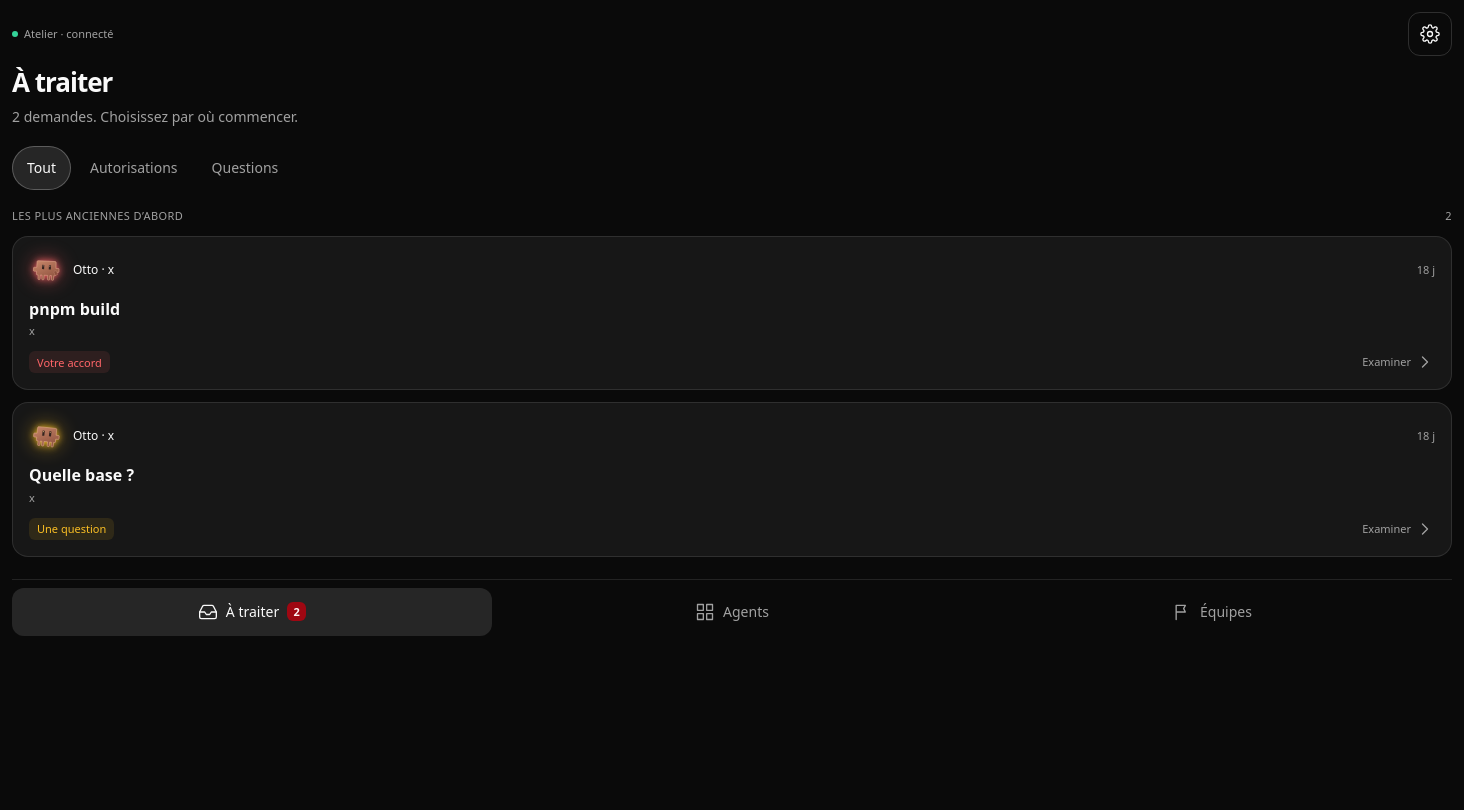
Scenario: the inbox › filters by kind
Click the button "Questions" at point(245, 168), box x1=197 y1=146 x2=293 y2=190
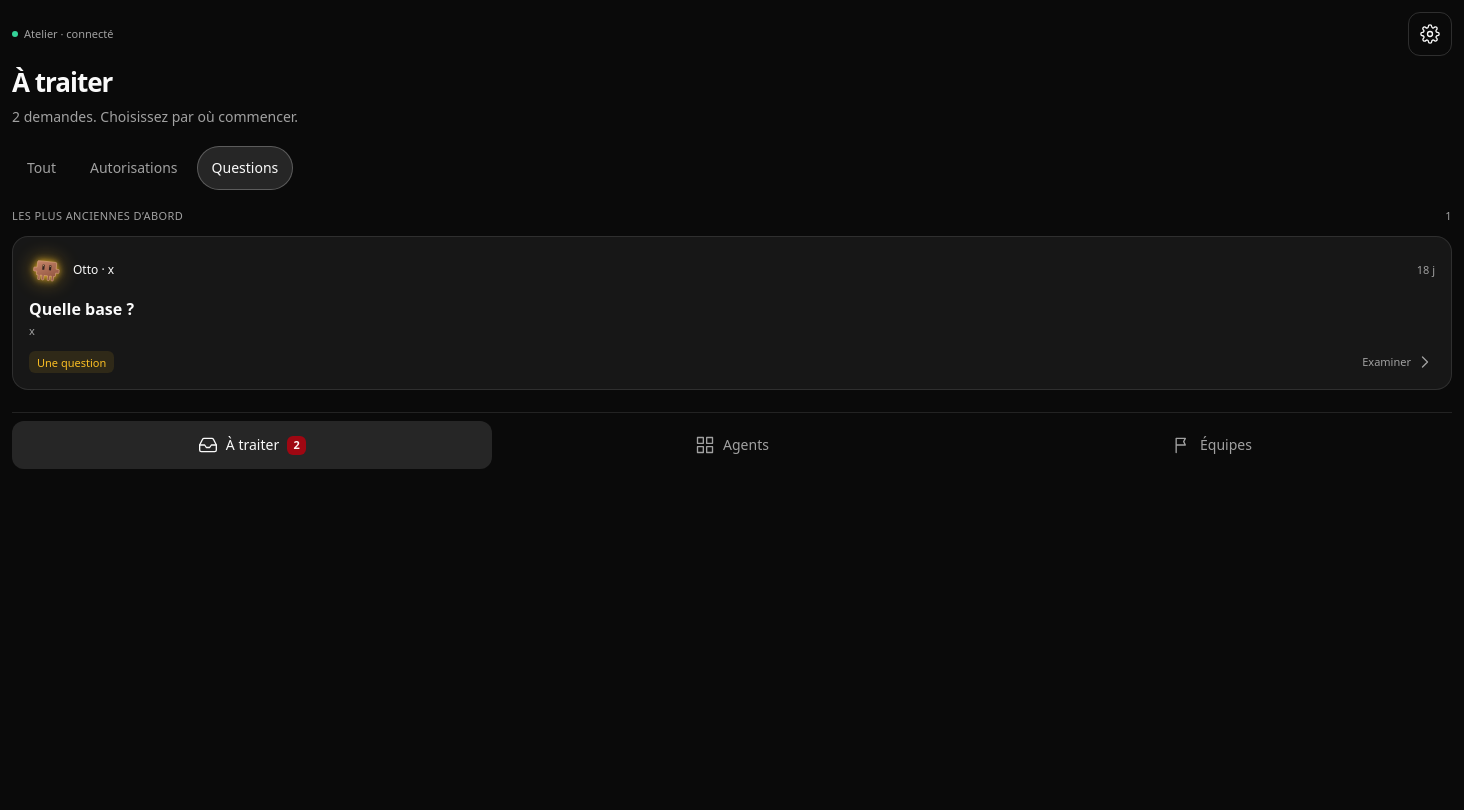
Expected: the text "Quelle base ?" is shown, x1=29 y1=298 x2=134 y2=320
Now the link "pnpm build" is gone
